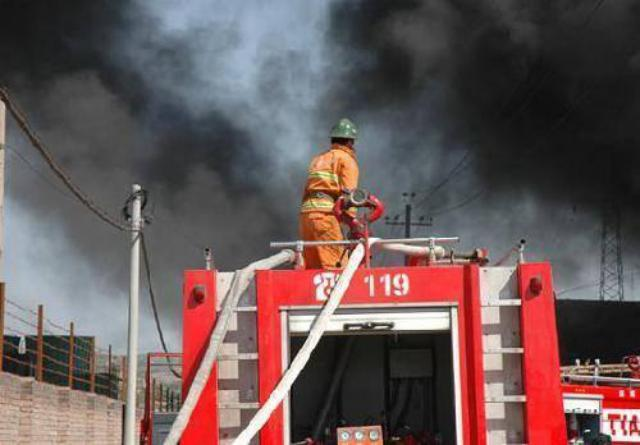smoke: (487, 7, 635, 136), (479, 132, 633, 235), (342, 0, 476, 108), (180, 98, 264, 249), (4, 1, 112, 93), (44, 94, 172, 169), (122, 0, 213, 89), (372, 115, 452, 172)
